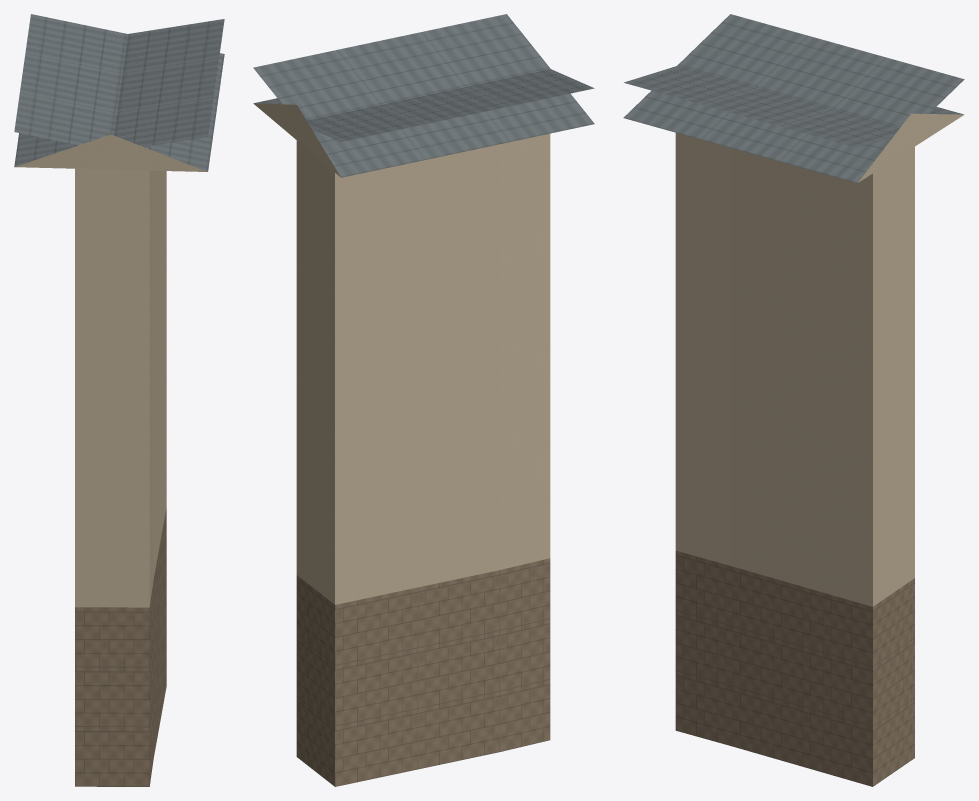
The model's file is bld_c-2_-4_565.gltf.
The picture shows the model from 3 angles, left to right: view 1: azimuth 30°, elevation 25°; view 2: azimuth 150°, elevation 25°; view 3: azimuth 270°, elevation 25°; orthographic projection.
Parts seen in each view (by area): view 1: bld_c-2_-4_565; view 2: bld_c-2_-4_565; view 3: bld_c-2_-4_565.
Boxes of the visible parts, x1=… form: bld_c-2_-4_565: x1=14, y1=14, x2=224, y2=786; bld_c-2_-4_565: x1=253, y1=14, x2=594, y2=786; bld_c-2_-4_565: x1=623, y1=14, x2=964, y2=786.
Bounding box in the file's own units: 8.14 × 18.8 × 8.77.
4 materials, 4 textured.
